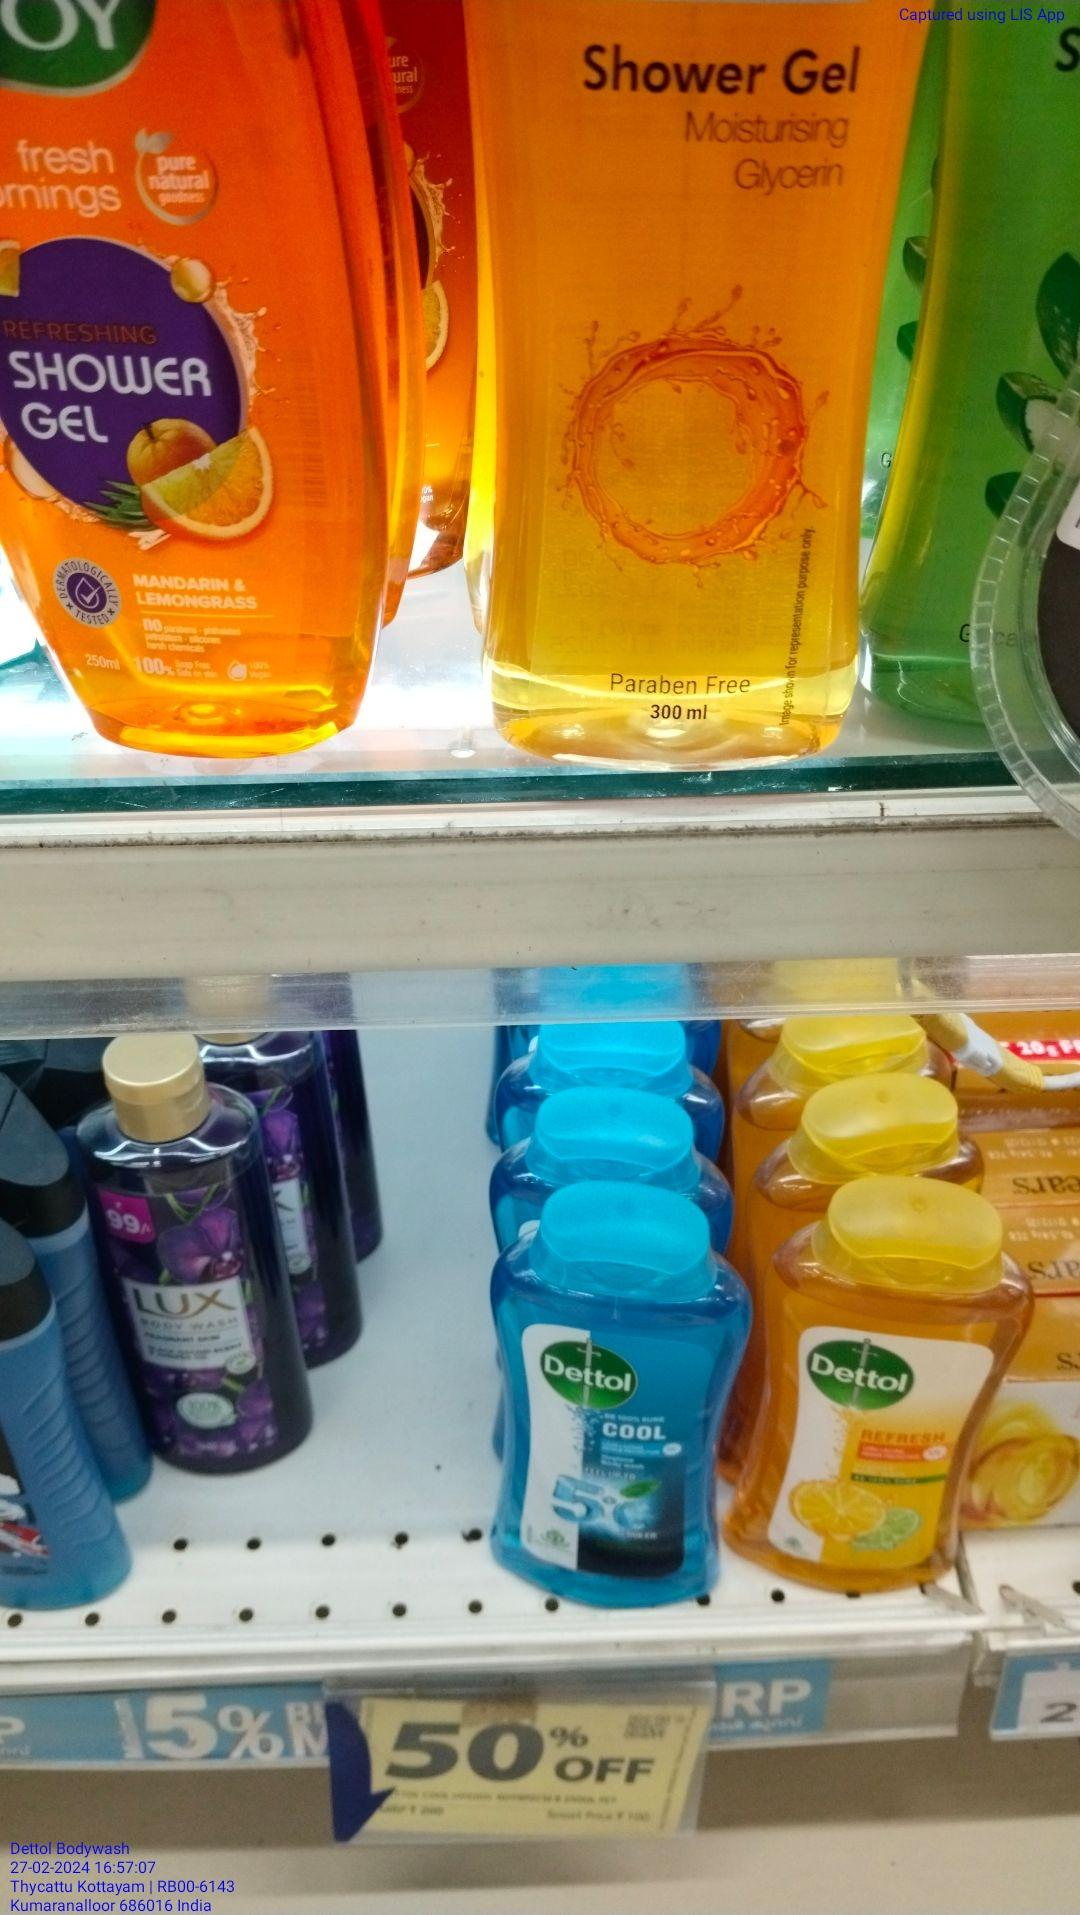Dettol_Bodywash_Cool: (497, 1234, 726, 1634)
Dettol_Bodywash_Refresh: (760, 1234, 980, 1610)
Lux_Black_Orchid_Scent_and_Juniper_Oil_Body_Wash_245ML: (96, 1040, 283, 1486)
